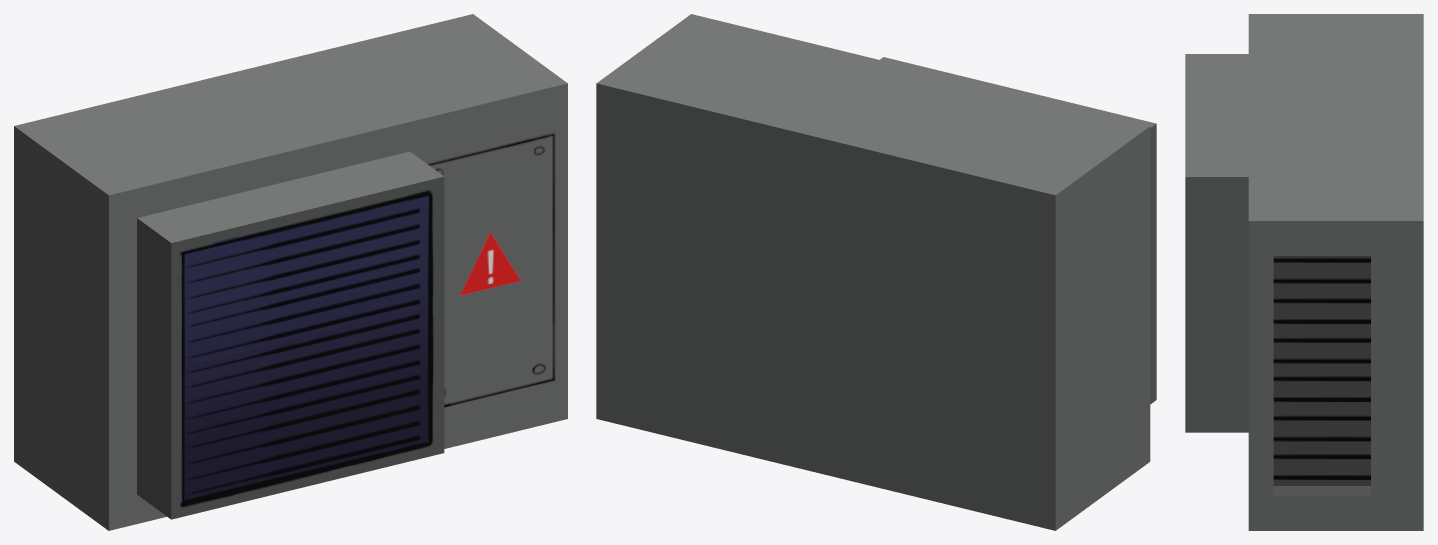
Rendered from prop.vent1.fbx.
3 views of the same model, side by side, from view 1: azimuth 30°, elevation 25°; view 2: azimuth 150°, elevation 25°; view 3: azimuth 270°, elevation 25° (orthographic). The views are drawn at different scales.
Visible parts, largest first — view 1: exaustor; view 2: exaustor; view 3: exaustor.
Part boxes in pixels (left/top/right/bottom): exaustor: left=14, top=14, right=567, bottom=530; exaustor: left=596, top=14, right=1156, bottom=530; exaustor: left=1185, top=14, right=1423, bottom=530.
Size of the model in its own units: 286 by 200 by 139.
